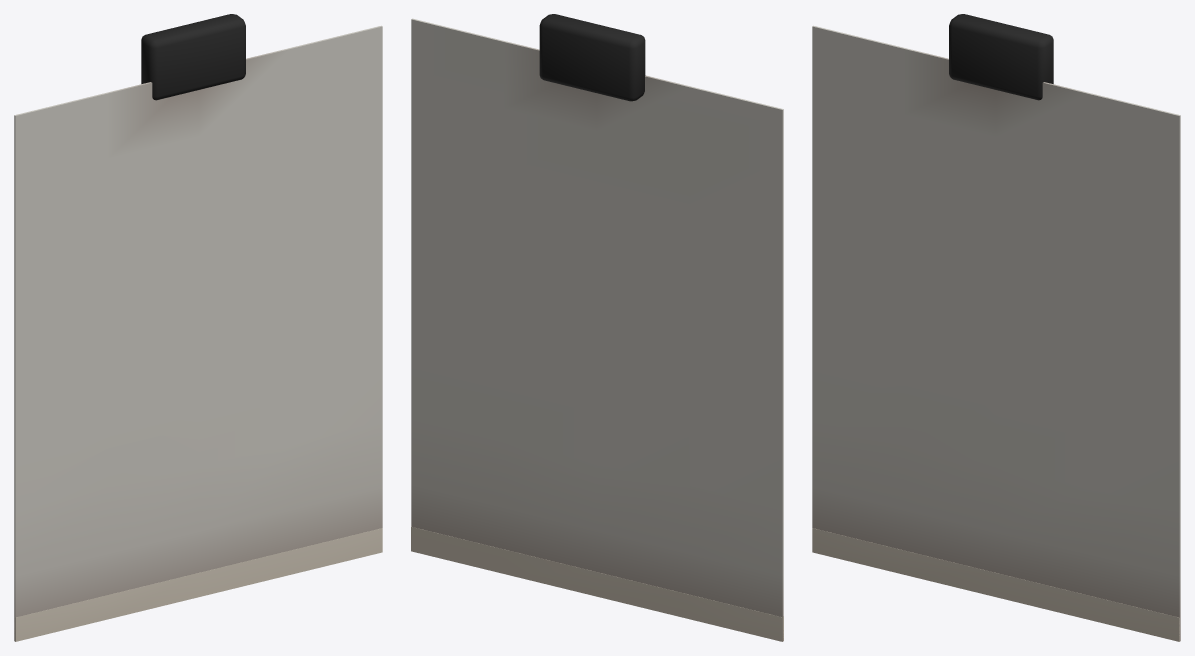
File: fp-ticket.gltf
3 renders of one model, left to right at view 1: azimuth 30°, elevation 25°; view 2: azimuth 150°, elevation 25°; view 3: azimuth 330°, elevation 25°, orthographic.
Parts seen in each view (by area): view 1: model; view 2: model; view 3: model.
Part boxes in pixels (x1=…): model: x1=14, y1=14, x2=382, y2=641; model: x1=411, y1=14, x2=783, y2=641; model: x1=812, y1=14, x2=1180, y2=641.
Size of the model in its own units: 0.19 by 0.28 by 0.012.
